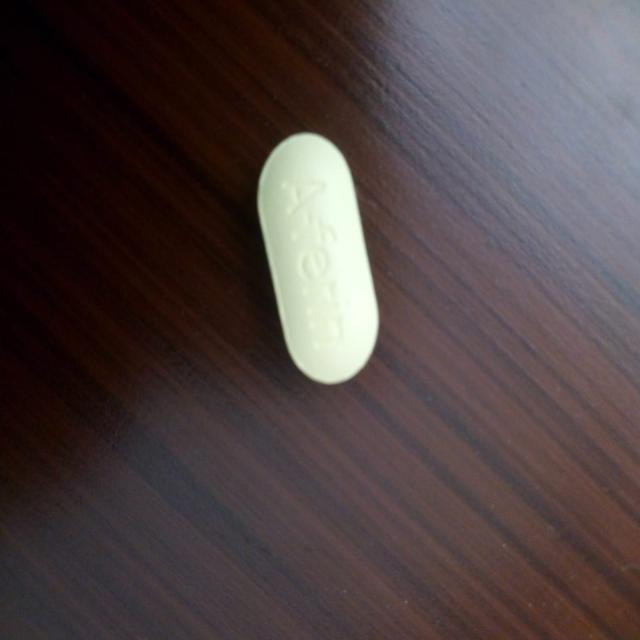pills: (244, 111, 385, 390)
